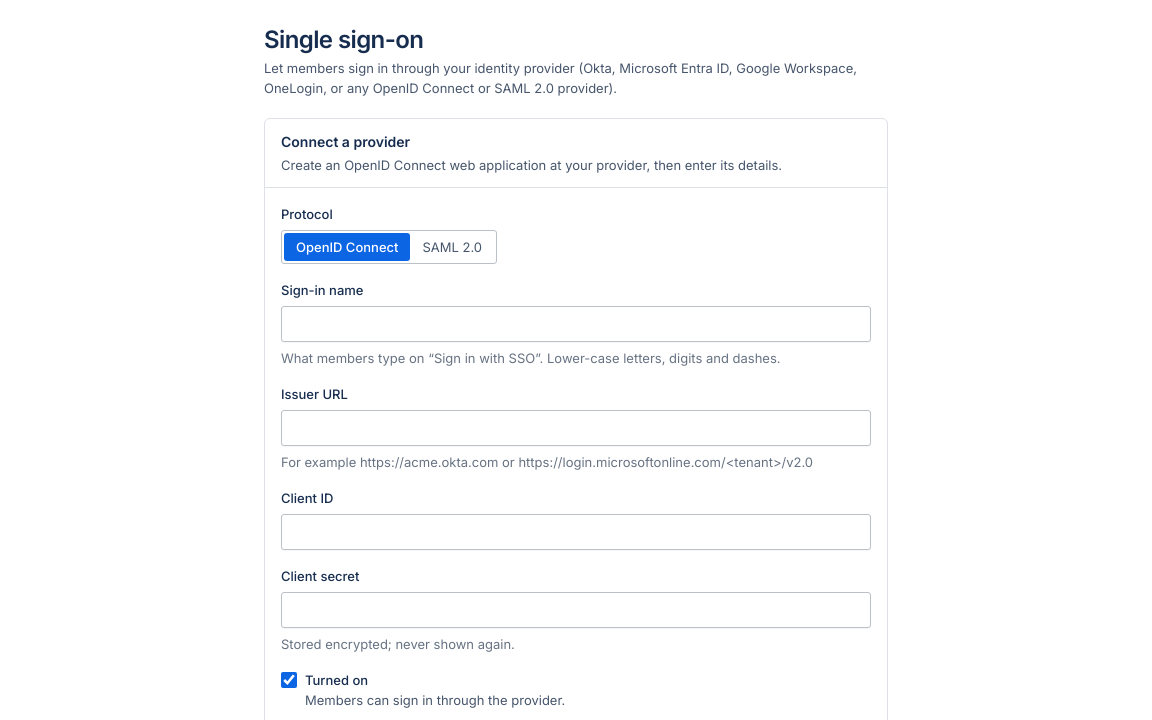
Test: single sign-on settings › connects a provider, then shows the redirect URI to register
The width and height of the screenshot is (1152, 720).
In the field labelled "Sign-in name": (576, 324) [281,306,871,342], type "acme"
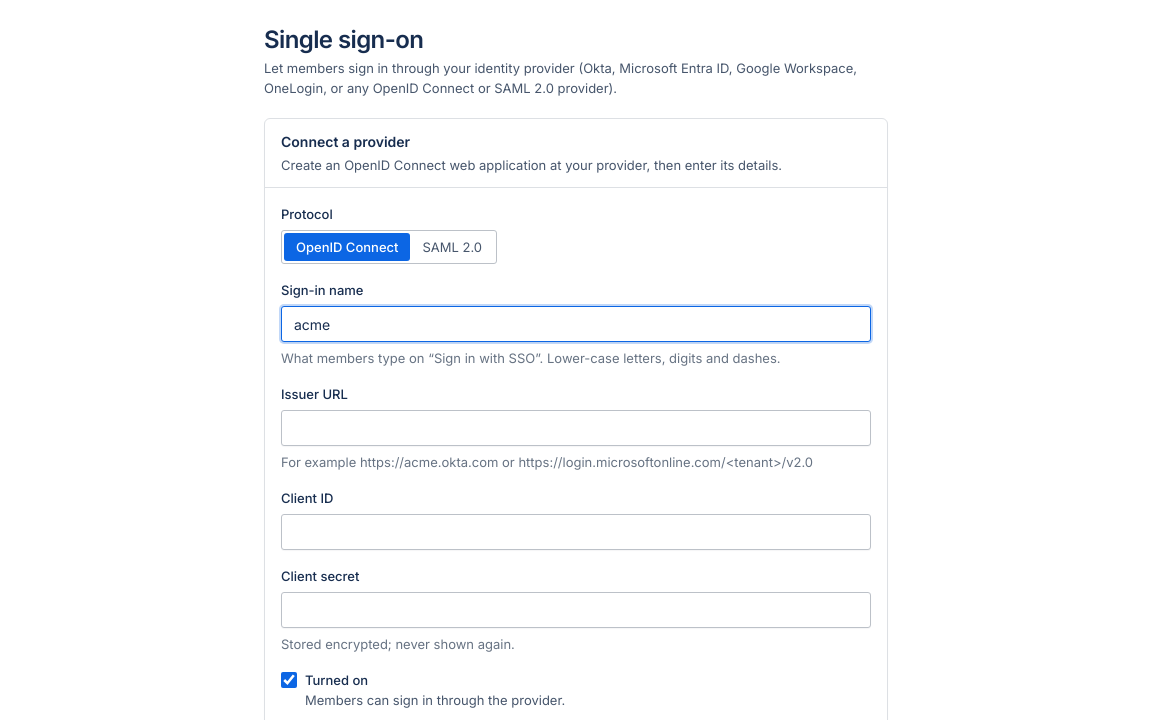
In the field labelled "Issuer URL": (576, 428) [281,410,871,446], type "https://acme.okta.com"
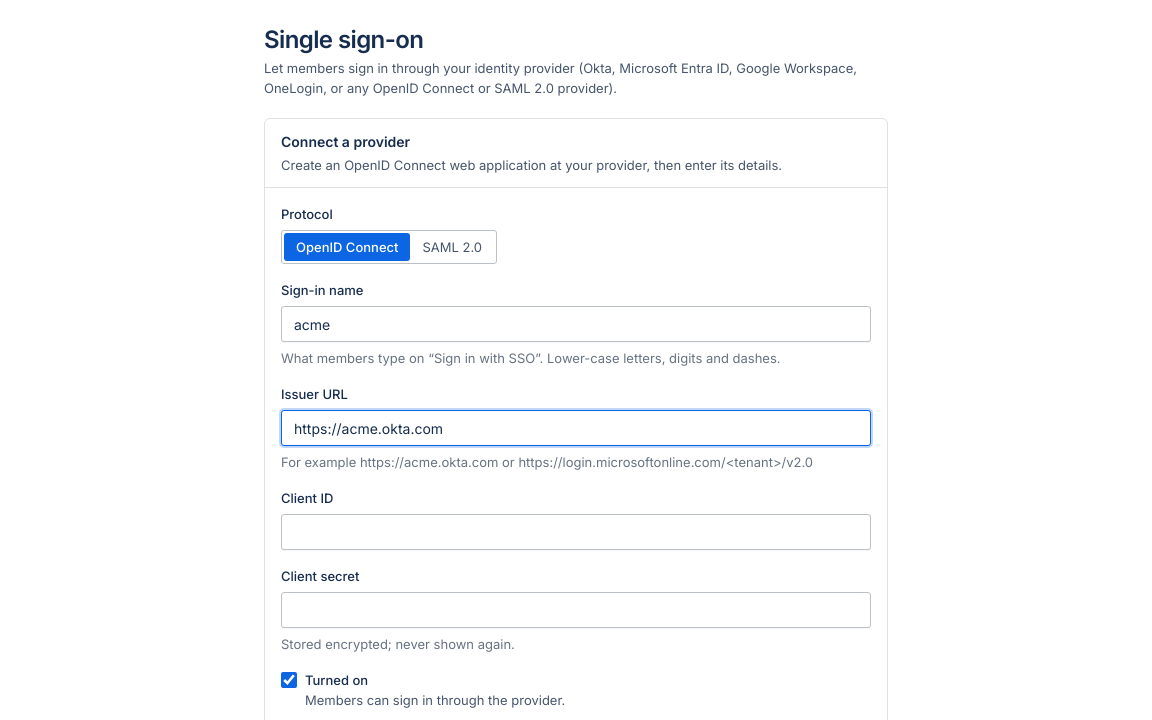
In the field labelled "Client ID": (576, 532) [281,514,871,550], type "abc"
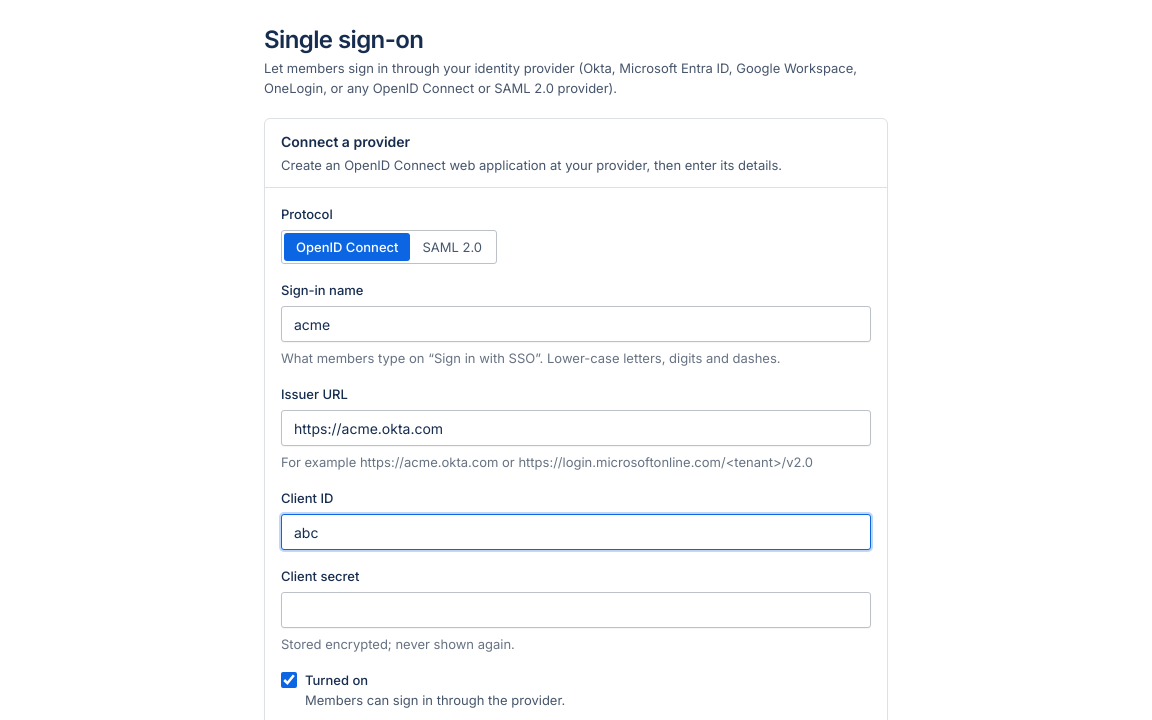
In the password field labelled "Client secret": (576, 610) [281,592,871,628], type "s3cret"
(page scrolled)
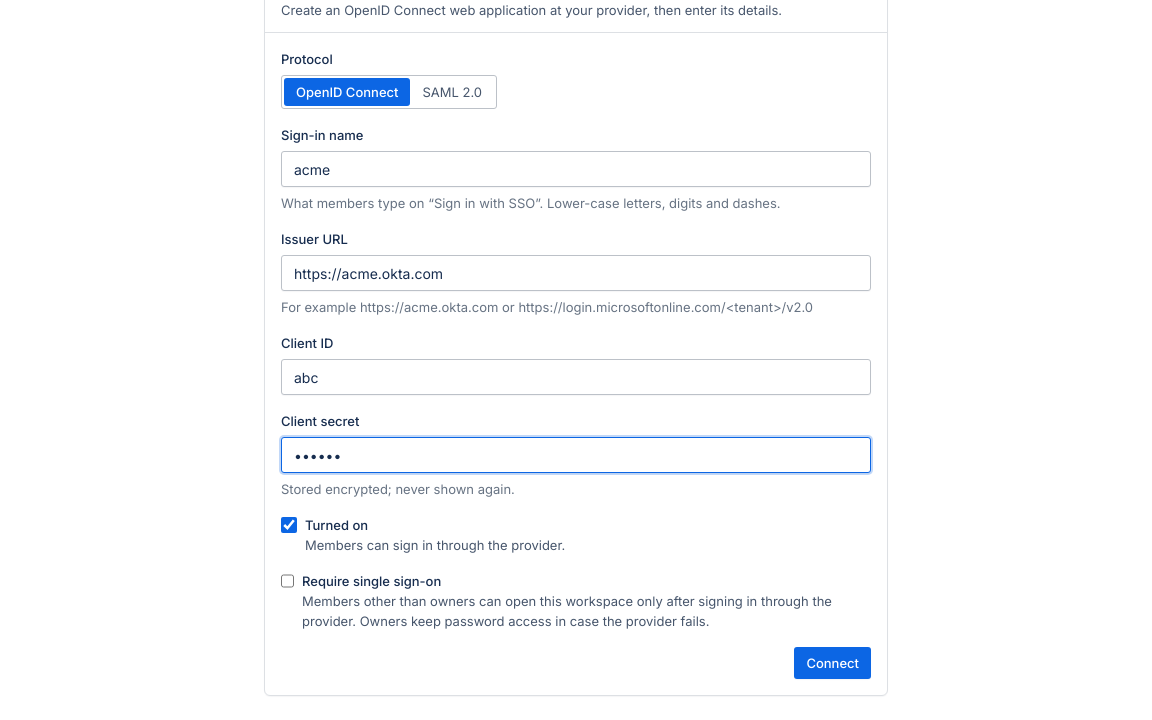
Click the checkbox labelled "Require single sign-on": (288, 581) [281,573,294,589]
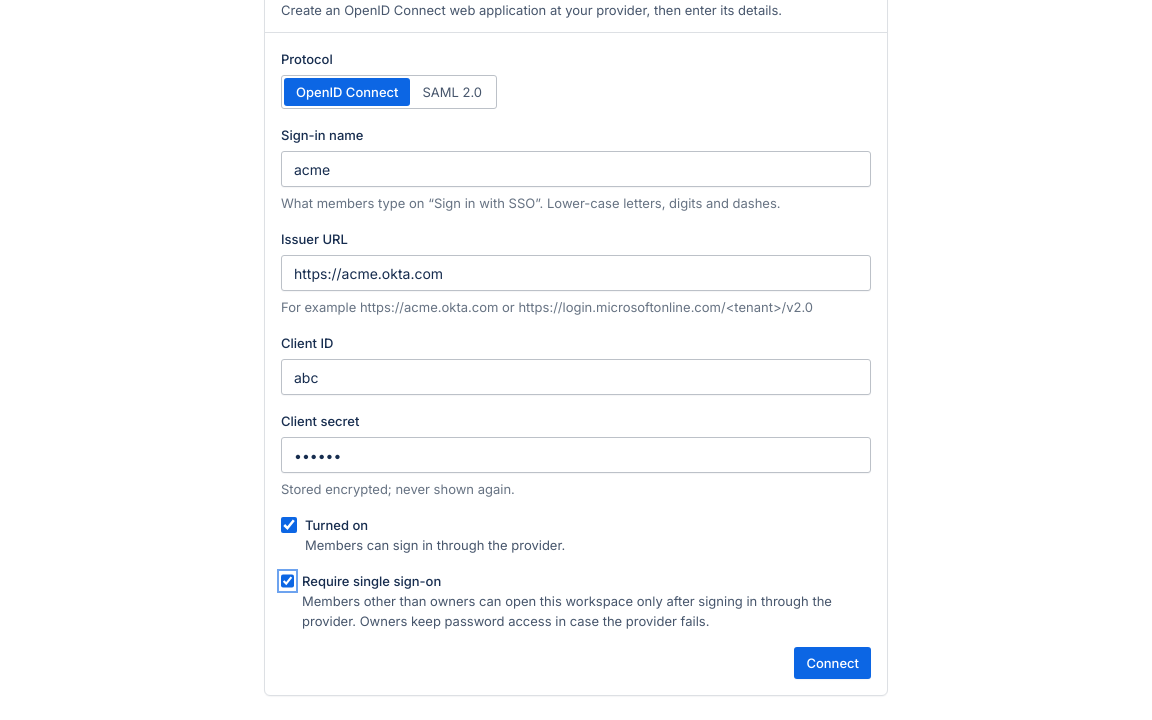
Click the button "Connect": (833, 663) [794,647,871,679]
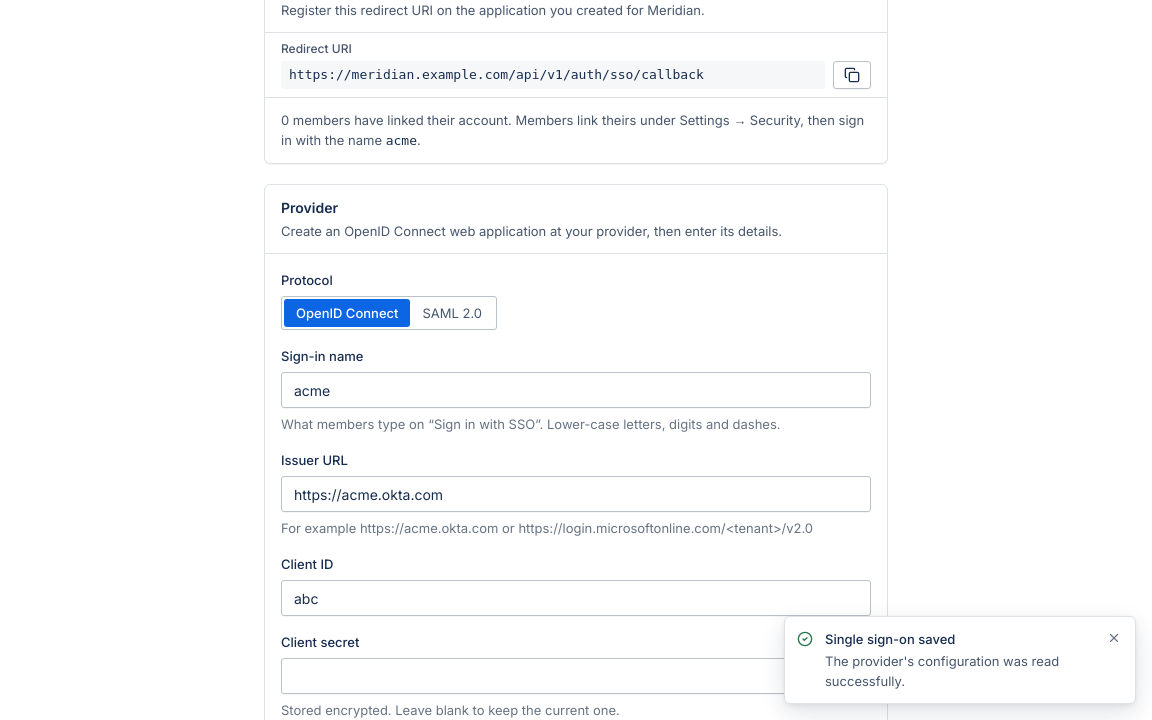
Now the text named "Redirect URI" reads "https://meridian.example.com/api/v1/auth/sso/callback", box [289,67,704,82]
